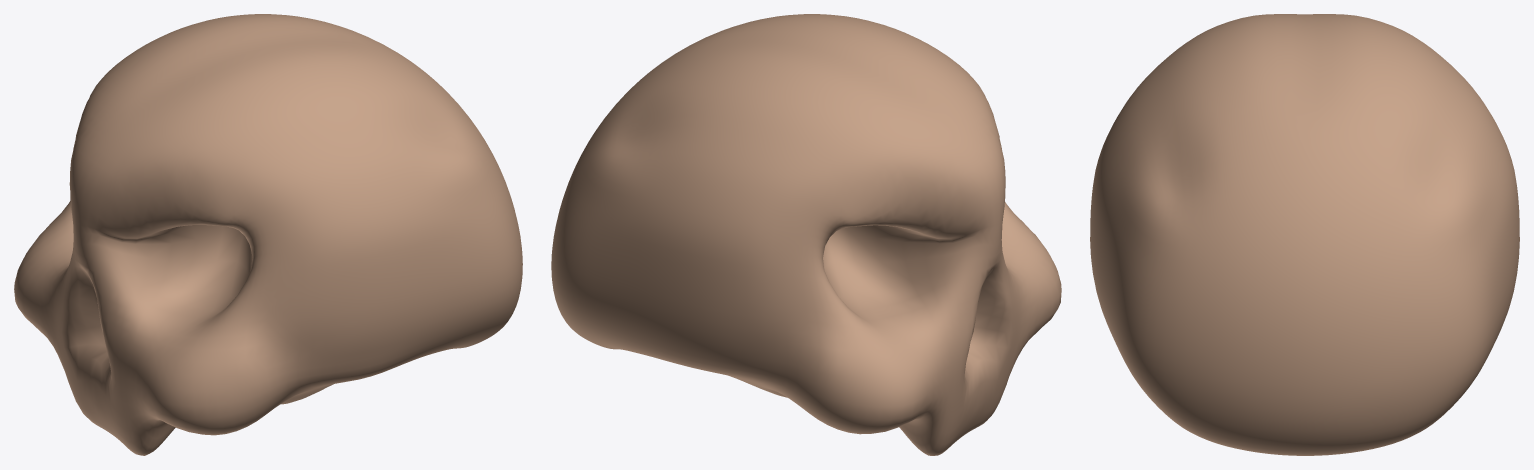
Rendered from skullmuflbox.fbx.
The picture shows the model from 3 angles, left to right: view 1: azimuth 30°, elevation 25°; view 2: azimuth 150°, elevation 25°; view 3: azimuth 270°, elevation 25°; orthographic projection. The views are drawn at different scales.
Visible parts, largest first — view 1: sphere; view 2: sphere; view 3: sphere.
Part boxes in pixels (x1,y1,x2,y2): sphere: (14, 14, 522, 455); sphere: (551, 14, 1061, 455); sphere: (1090, 14, 1519, 455).
Size of the model in its own units: 185 by 156 by 163.
